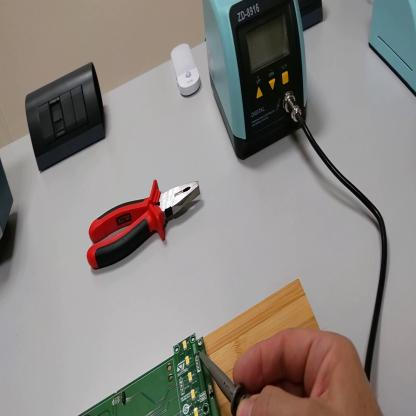hand: (236, 324, 383, 416)
low voltage board: (80, 334, 221, 416)
oscilloscope: (2, 159, 16, 258)
oscilloscope probe tip: (198, 352, 246, 416)
pliers: (88, 170, 202, 270)
socket: (296, 1, 326, 34)
welder station: (203, 2, 309, 163), (369, 5, 416, 96)
working area: (204, 276, 319, 414)
